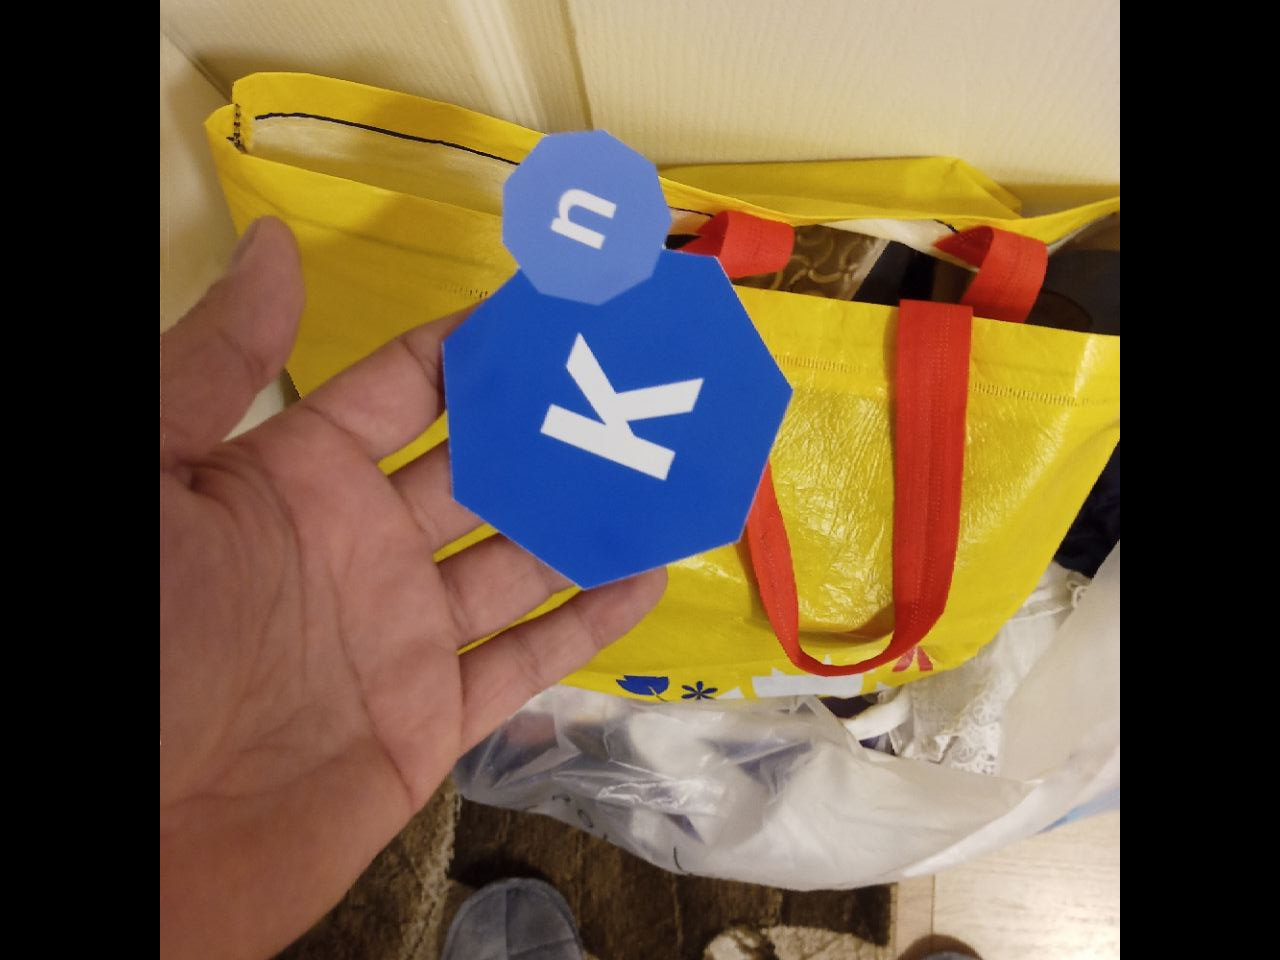knative: (445, 128, 791, 589)
